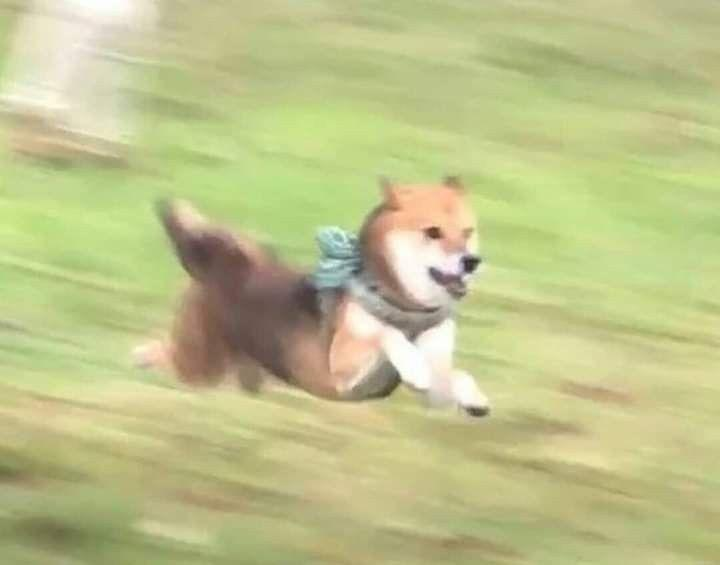adult_dog: (132, 175, 495, 422)
